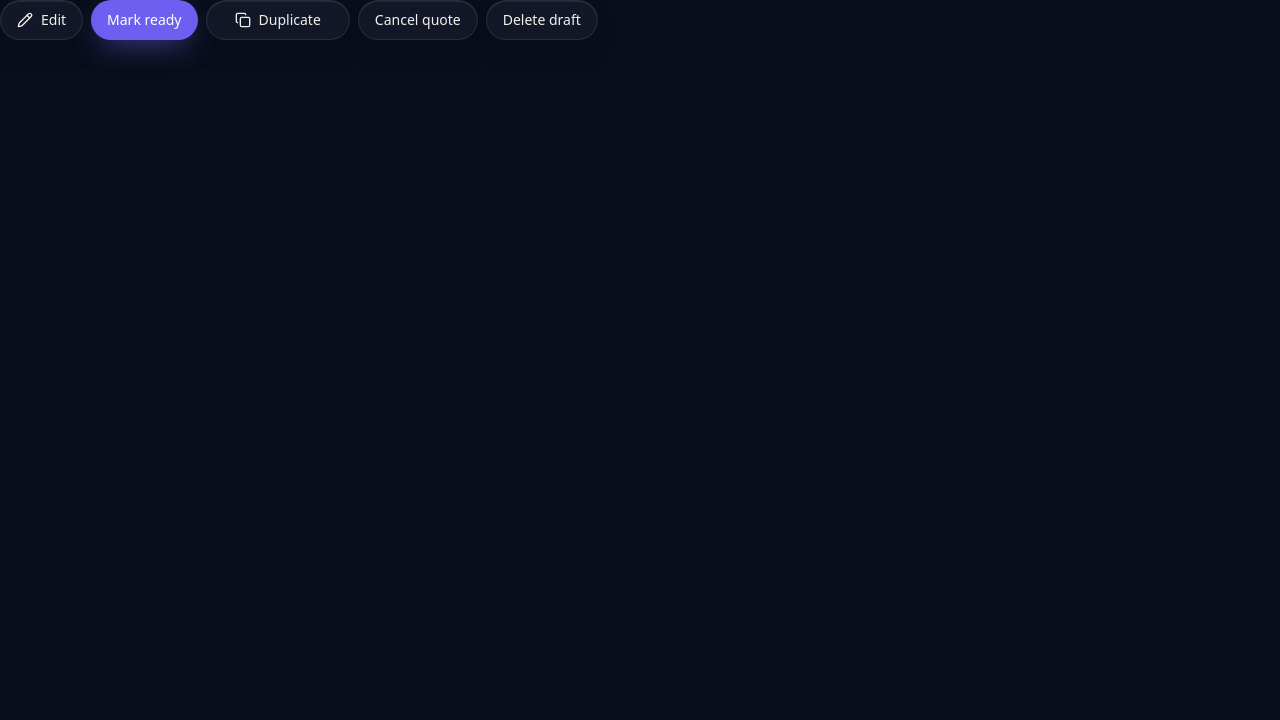
Scenario: Quote status actions › keeps the dialog open with the error and a usable button when the server refuses
This screenshot has width=1280, height=720.
Click the button "Mark ready".
click(144, 20)  # box [91,0,198,40]
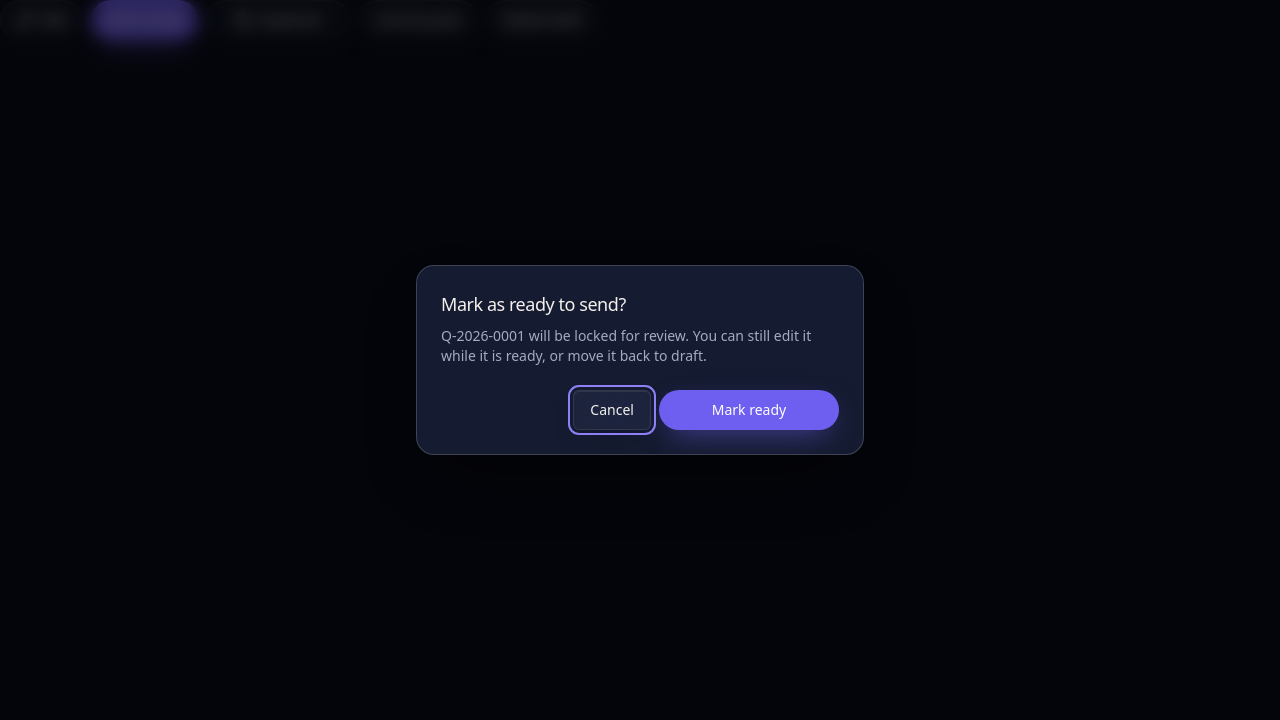
Click the button "Mark ready".
click(749, 410)  # box [659,390,839,430]
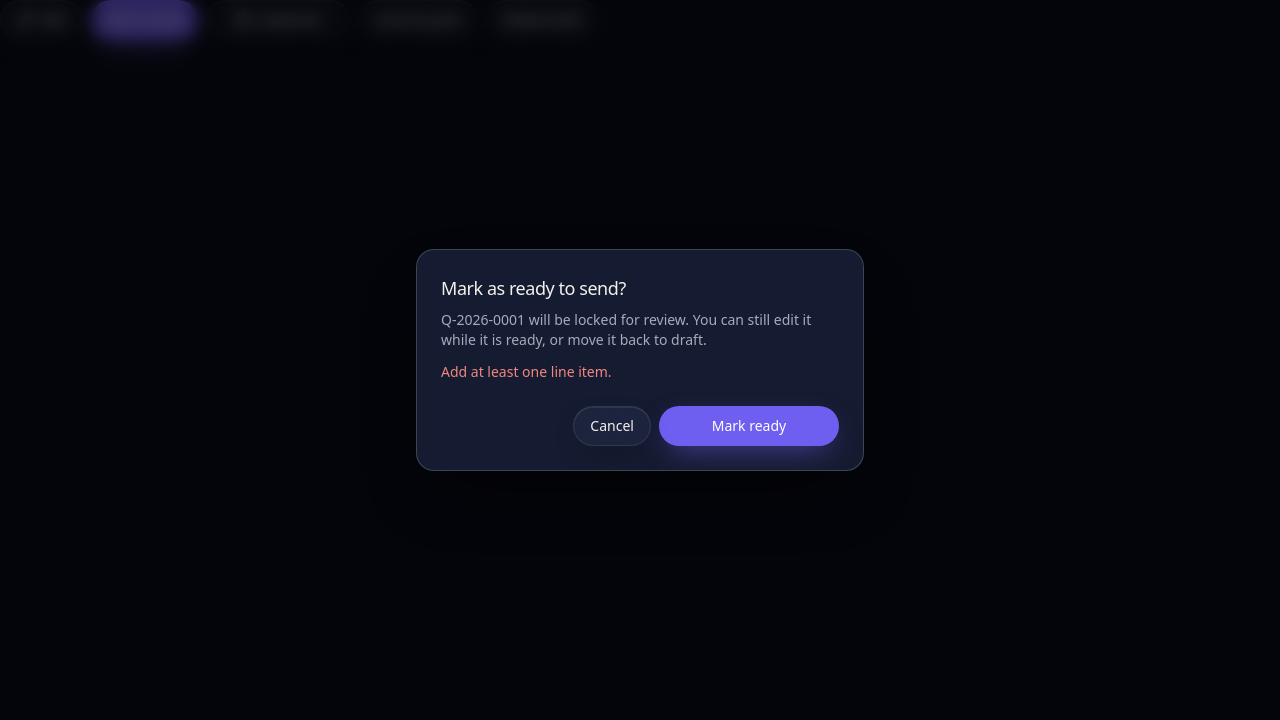
Check: the button "Mark ready" is enabled, box [659,406,839,446]
Check: the message reads "Add at least one line item.", box [441,362,612,381]
